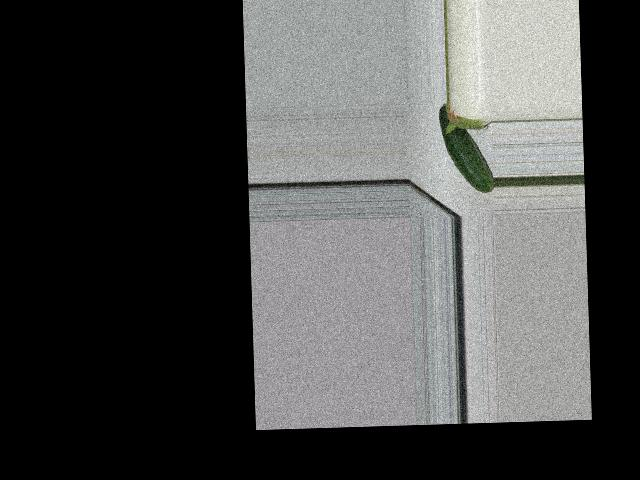cucumber: (439, 102, 494, 194)
